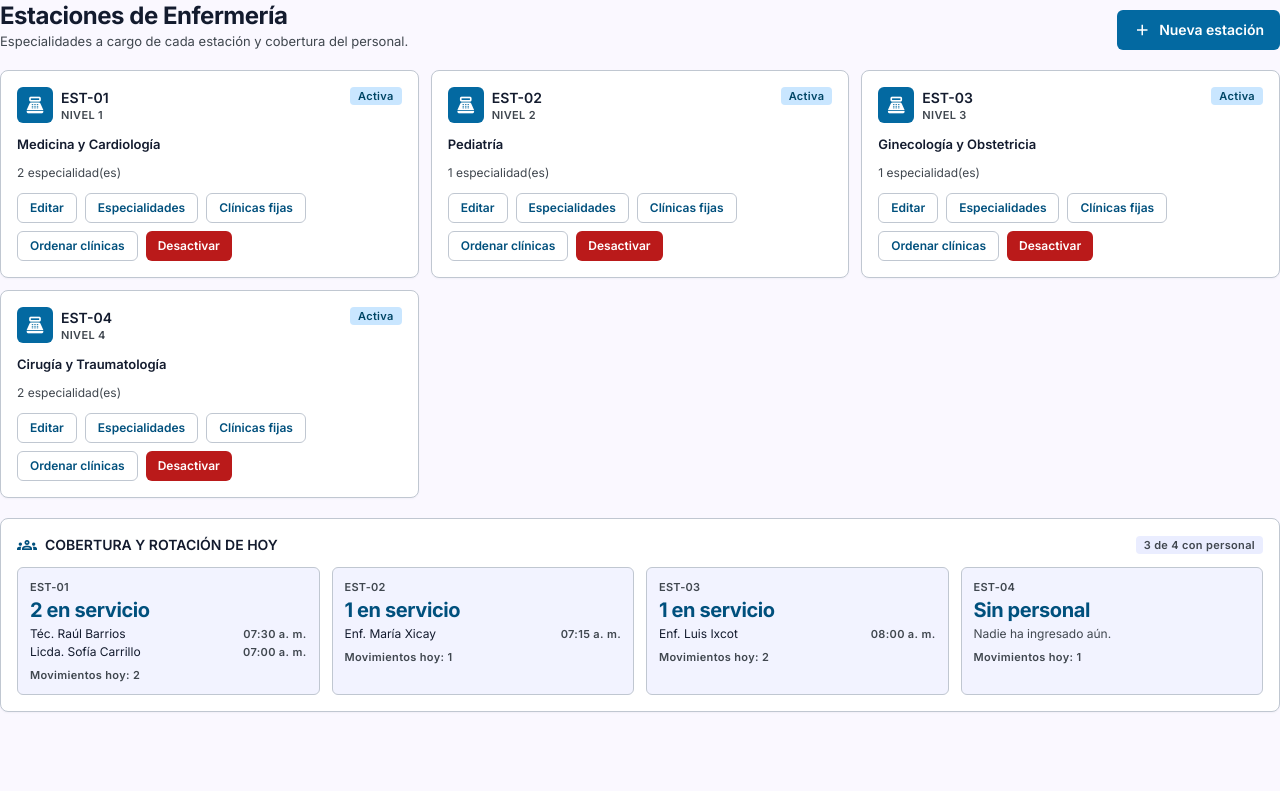
EstacionesPage › crea una estación nueva
The image size is (1280, 791).
Expected: the element with test id "estacion-EST-01" is shown, [0, 70, 419, 278]
Click the button "Nueva estación".
click(1199, 30)  # box [1117, 10, 1279, 50]
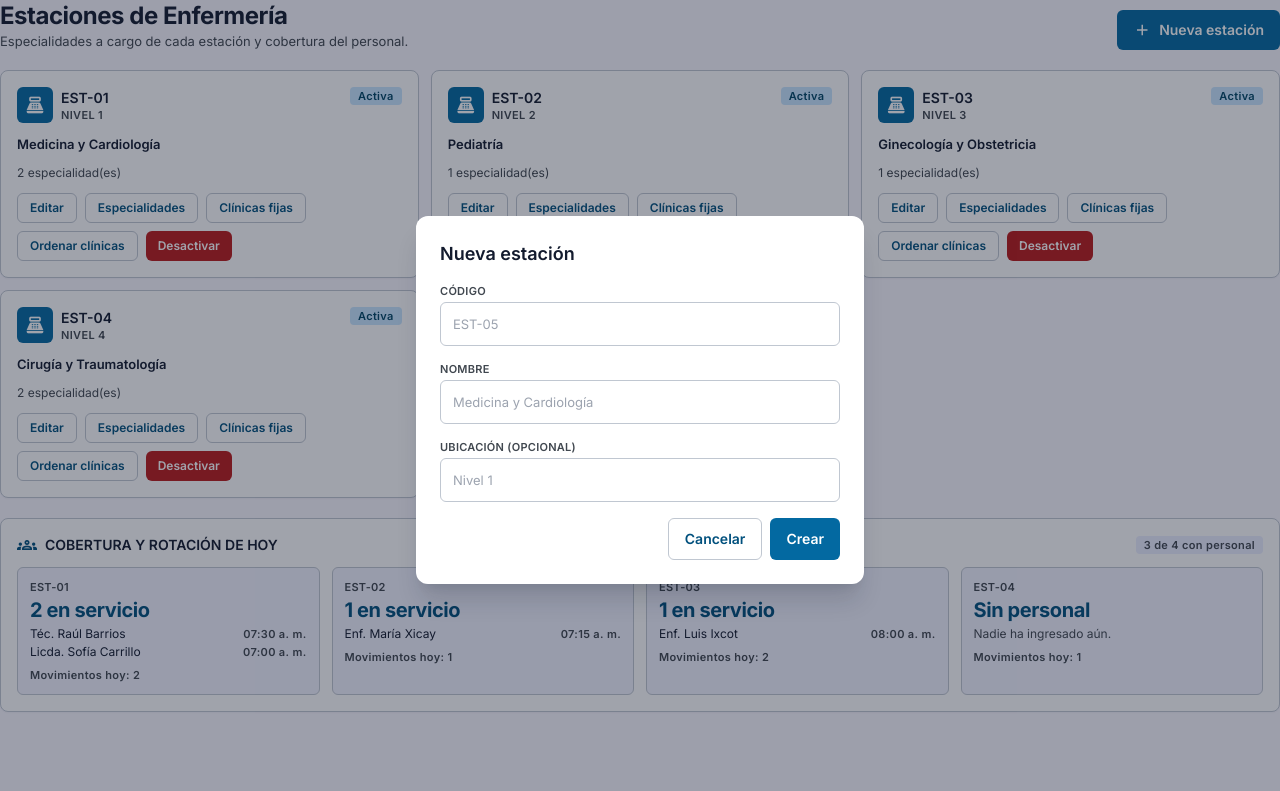
Type "EST-09" into the field labelled "Código".
click(640, 324); type("EST-09")  # box [440, 302, 840, 346]
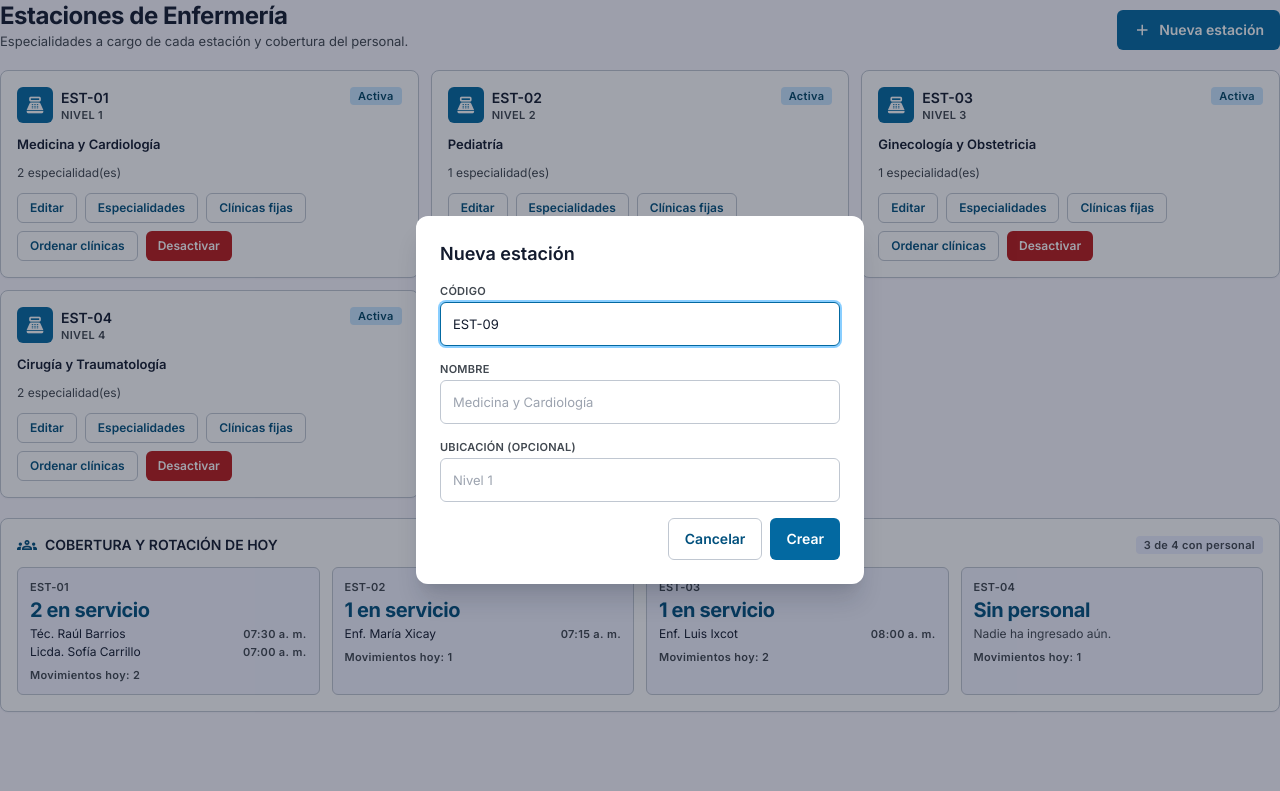
Type "Nueva Área" into the field labelled "Nombre".
click(640, 402); type("Nueva Área")  # box [440, 380, 840, 424]
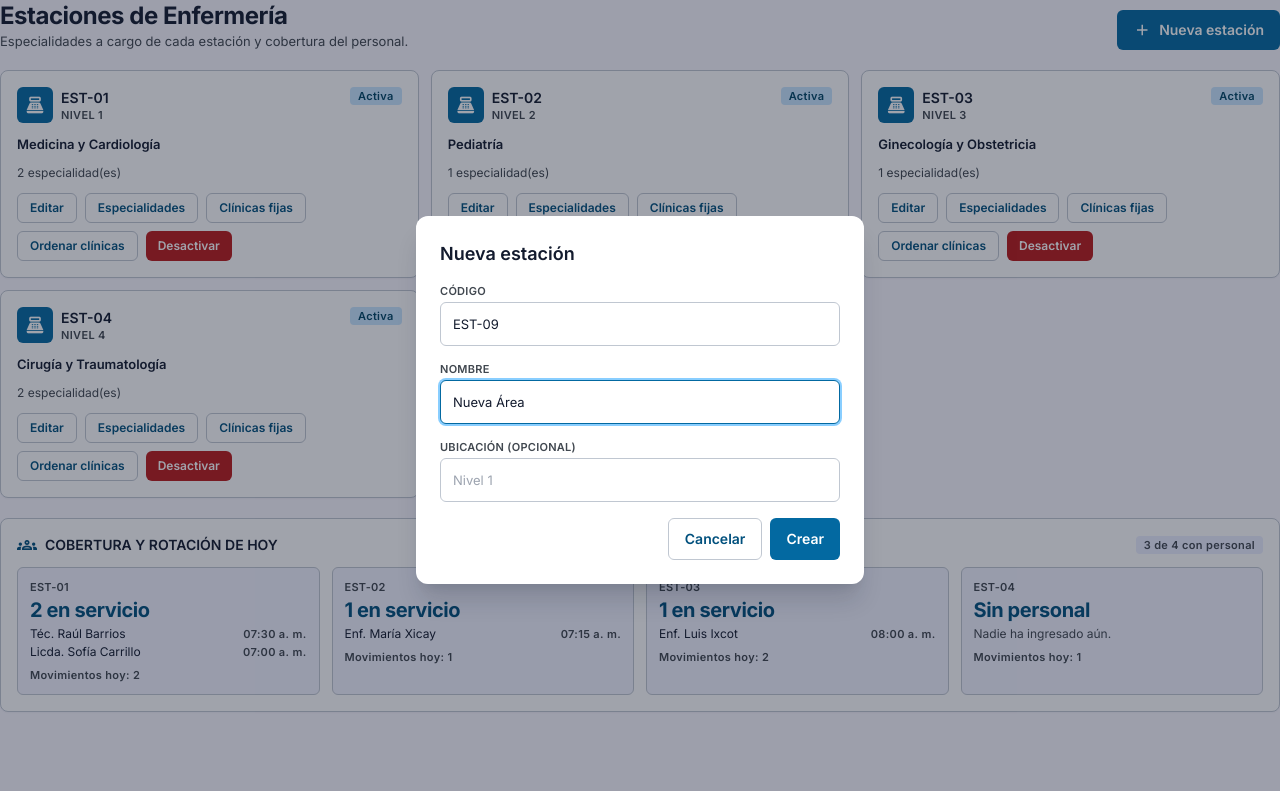
Click the button "Crear".
click(805, 539)  # box [770, 518, 840, 560]
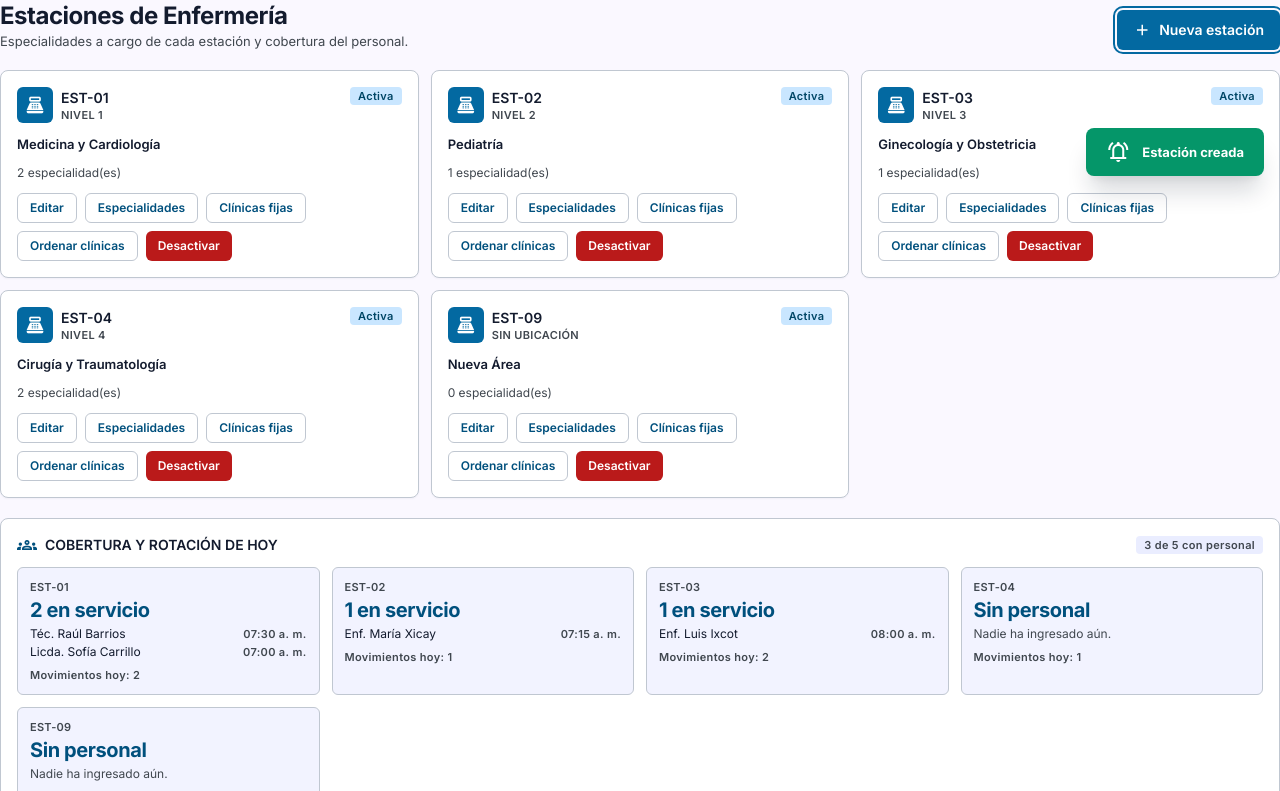
Now the element with test id "estacion-EST-09" is shown, box [431, 290, 849, 498]
